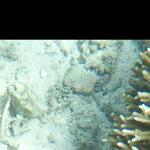dead: (1, 35, 147, 146)
